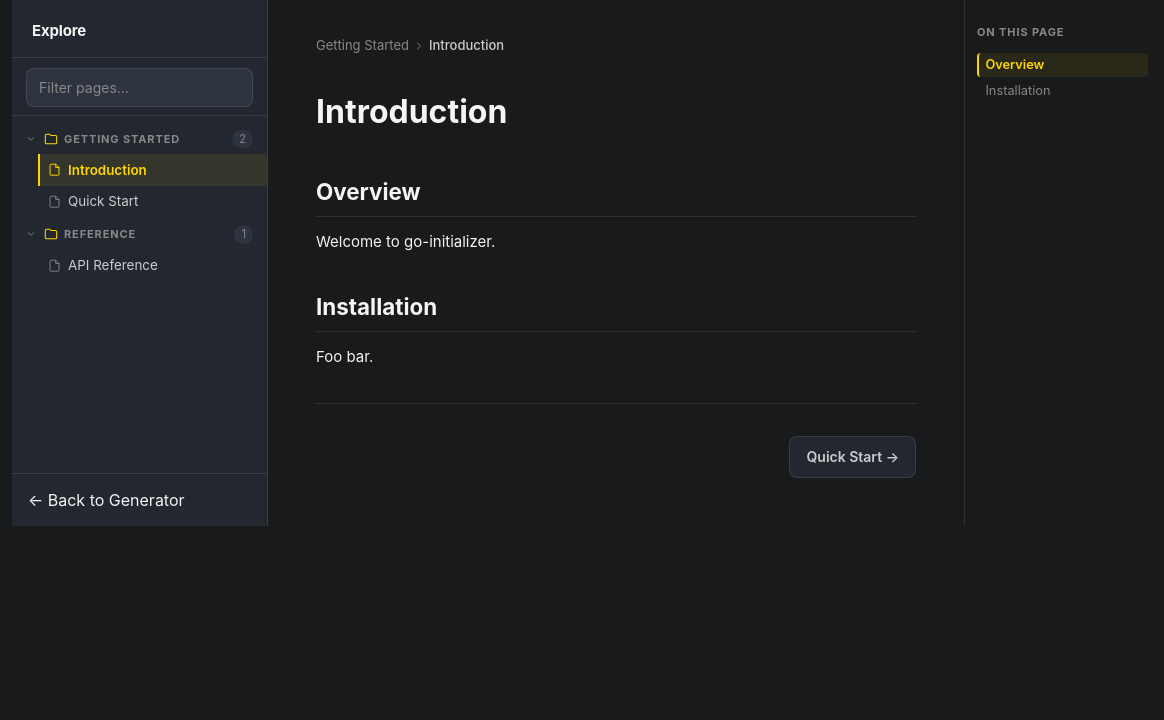
Explore – sidebar search › shows all pages when search is cleared
The width and height of the screenshot is (1164, 720).
Expected: the text "Introduction" below "Explore" is shown, [68,162,147,178]
Type "api" into the search field with placeholder "Filter pages…".
click(140, 87); type("api")  # box [26,68,253,106]
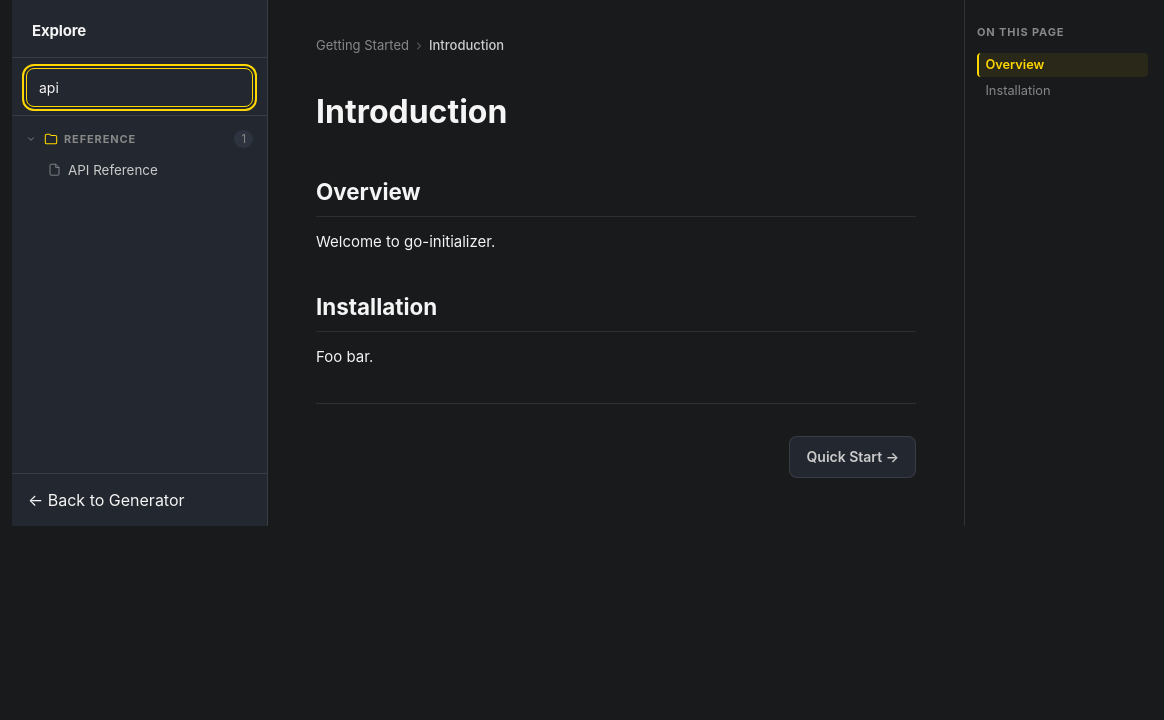
Clear the search field with placeholder "Filter pages…" at (140, 87), box [26,68,253,106]
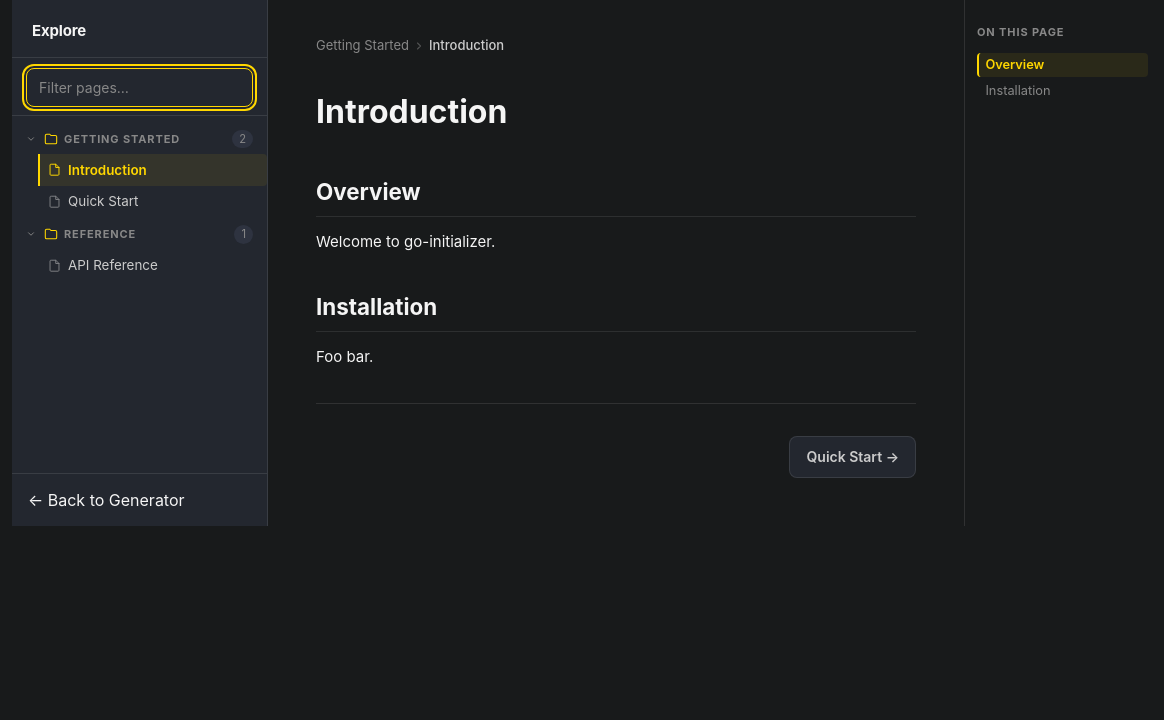
Result: the text "Introduction" below "Explore" is shown at [68,162,147,178]
Result: the text "Quick Start" is shown at [68,193,138,209]
